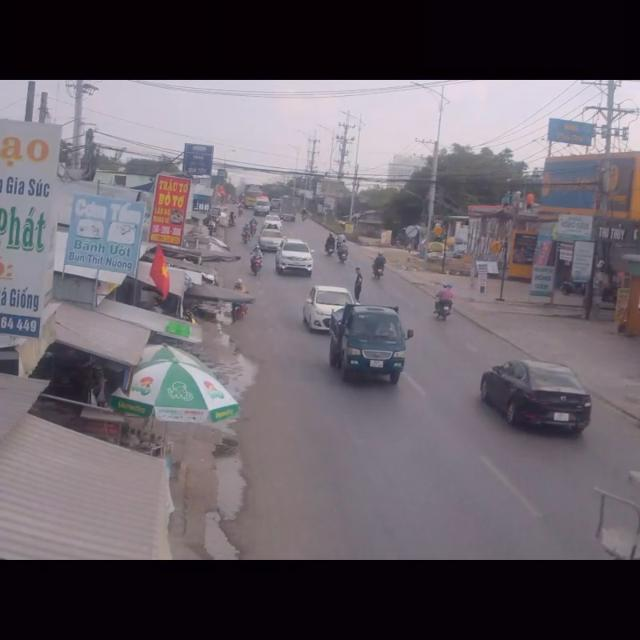car: (480, 357, 596, 439), (308, 282, 362, 336), (274, 239, 314, 278)
motorbike: (433, 282, 453, 323), (371, 252, 386, 280), (339, 239, 350, 265), (325, 233, 337, 256)
truck: (329, 301, 411, 389)
